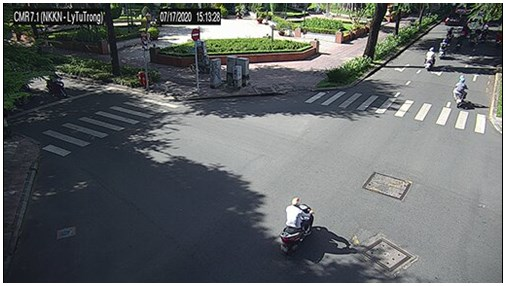xe_may: (279, 197, 315, 254), (47, 69, 70, 99), (453, 74, 468, 110), (425, 47, 435, 72), (438, 38, 446, 59)
